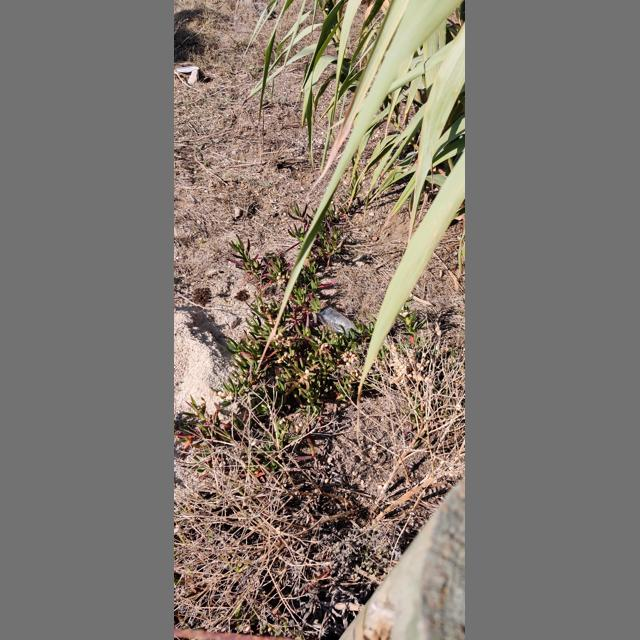litter: (317, 306, 358, 337), (177, 66, 199, 73)
